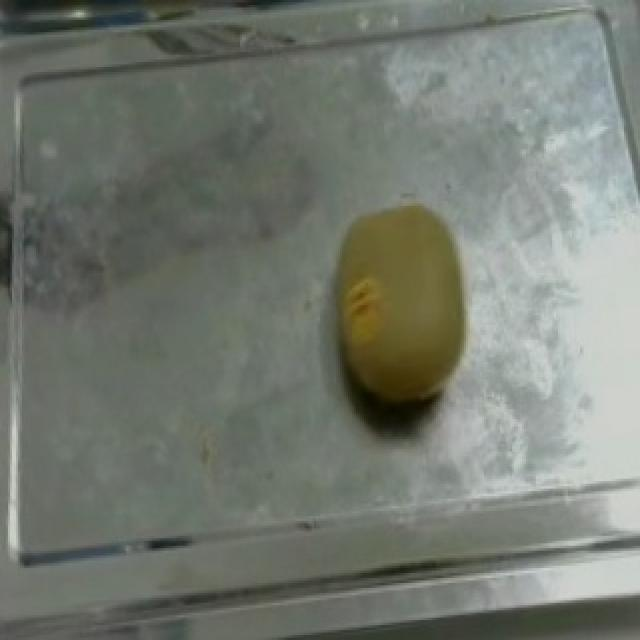Fruit: (316, 191, 492, 429)
